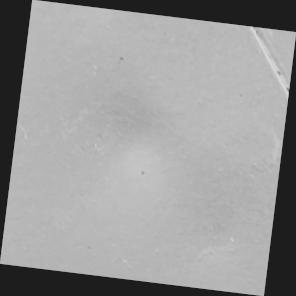dent: (0, 1, 296, 296)
